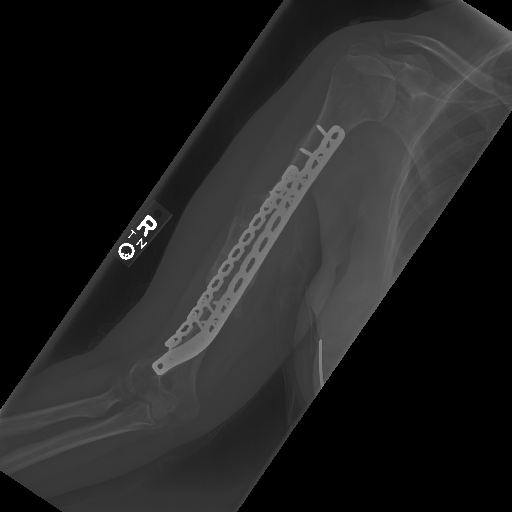implant: (154, 120, 346, 374)
